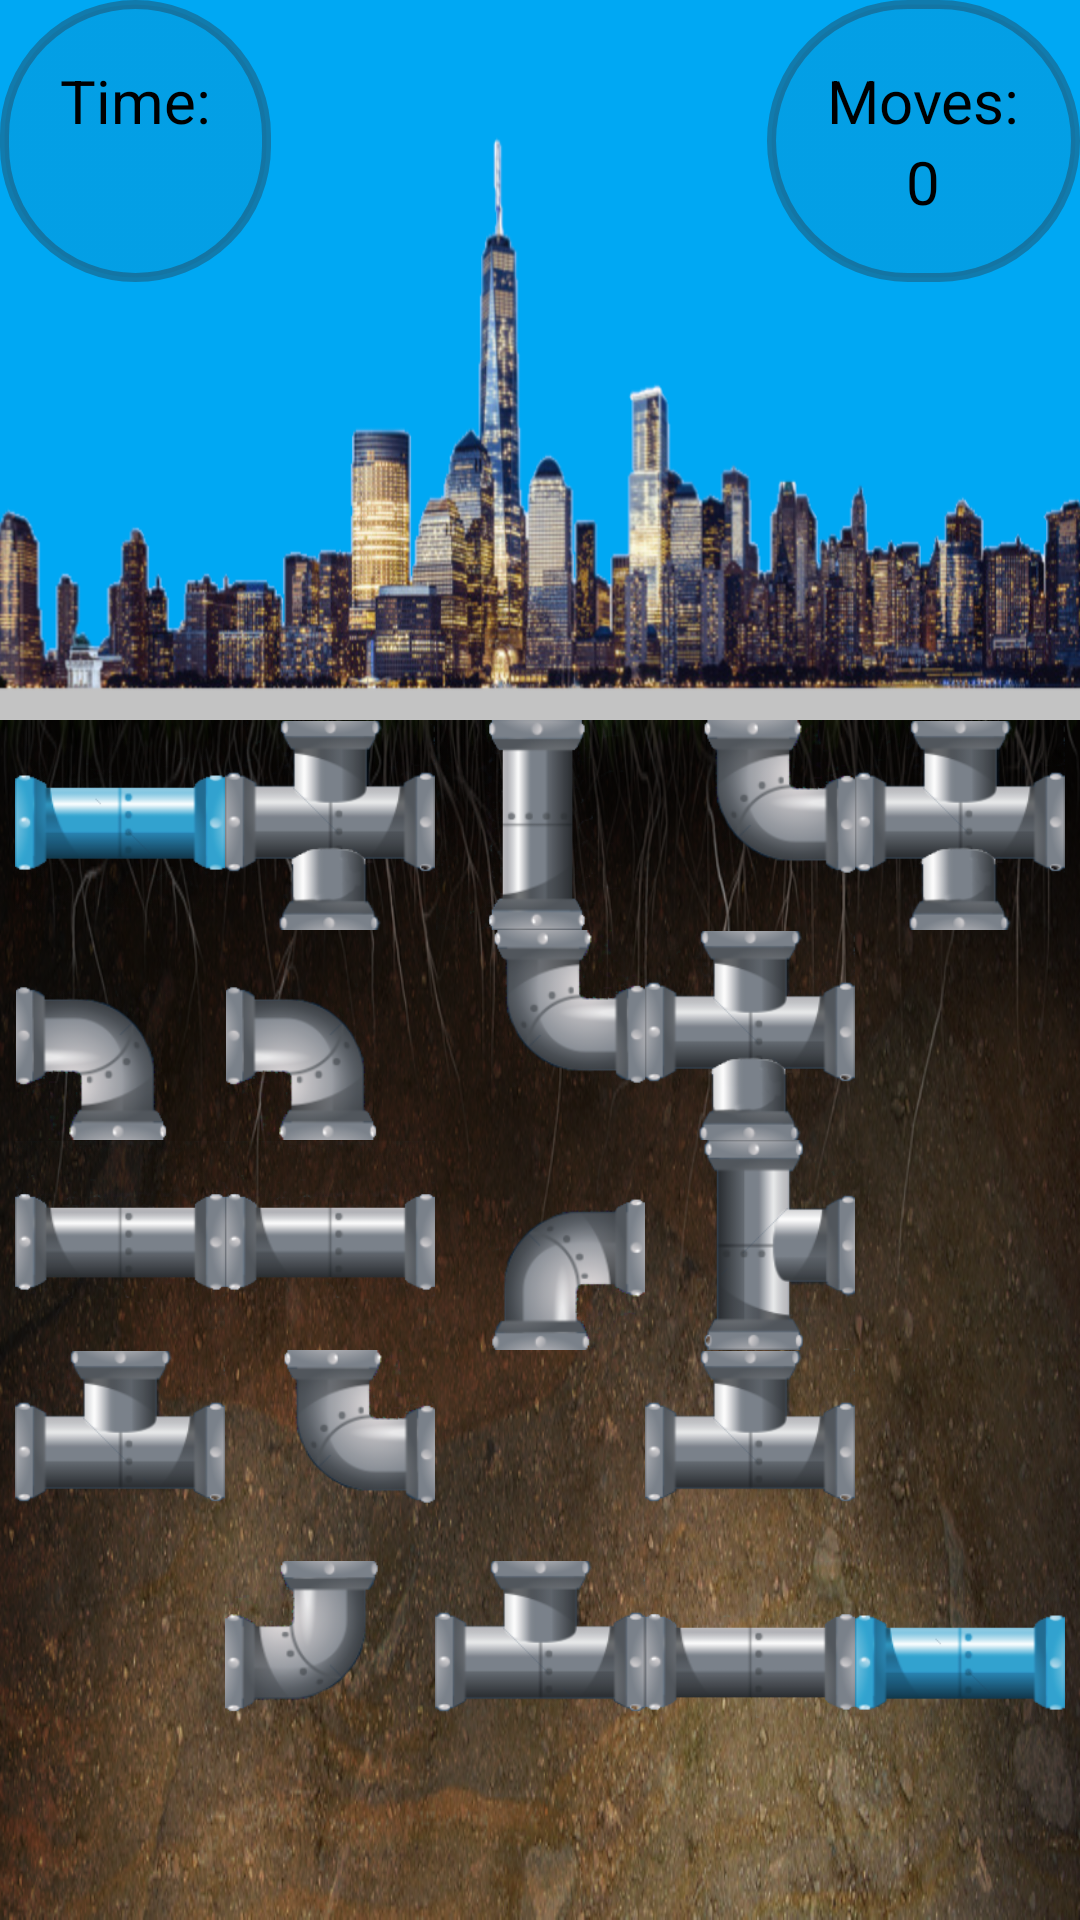

Point at icon controls on the screen. Image size 1080 x 1920, points as (x,y).
pipe borders lefttop: (330,1665)
pipe borders righttop: (750,825), (540,1035), (330,1455)
pipe fork right: (750,1245)
pipe fork top: (120,1455), (750,1455), (540,1665)
pipe four: (330,825), (960,825), (750,1035)
pipe straight: (120,825), (120,1245), (330,1245), (750,1665), (960,1665)
pipe vertical: (540,825)
